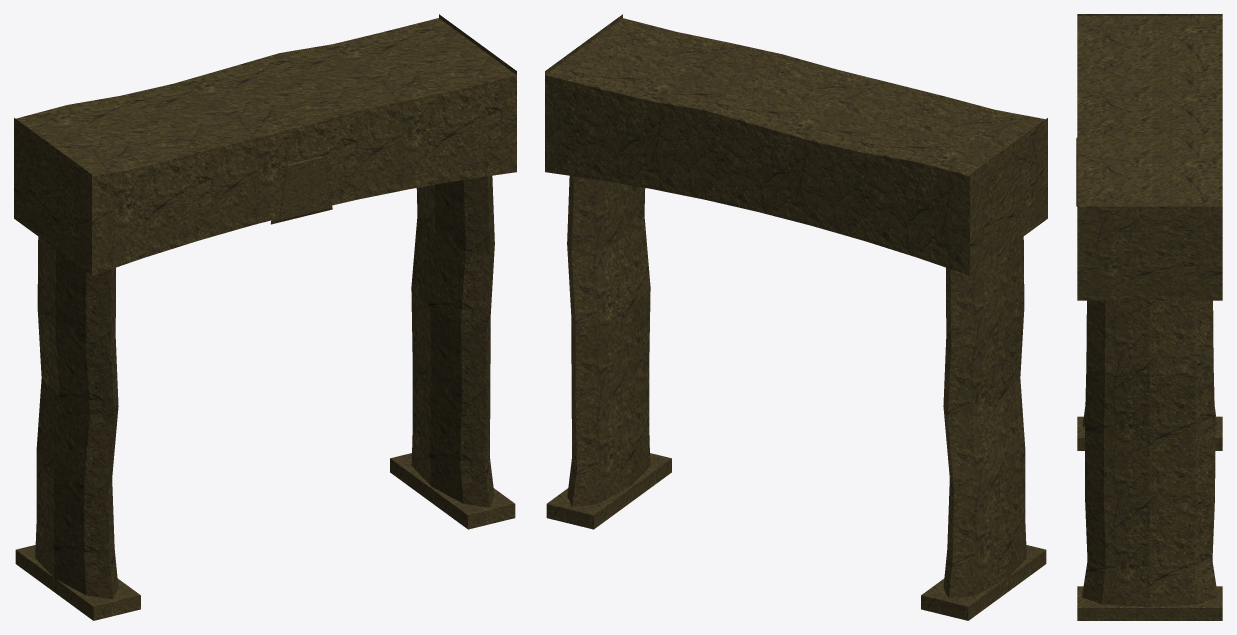
Rendered from dungeon_gate_44_limestone.glb.
The picture shows the model from 3 angles, left to right: view 1: azimuth 30°, elevation 25°; view 2: azimuth 150°, elevation 25°; view 3: azimuth 270°, elevation 25°; orthographic projection. The views are drawn at different scales.
Parts seen in each view (by area): view 1: dungeon_gate_44_limestone; view 2: dungeon_gate_44_limestone; view 3: dungeon_gate_44_limestone.
Part boxes in pixels (box(x1,y1,x2,y2)): dungeon_gate_44_limestone: box(14, 14, 516, 620); dungeon_gate_44_limestone: box(545, 14, 1047, 620); dungeon_gate_44_limestone: box(1076, 14, 1222, 620).
Size of the model in its own units: 4.4 by 4.42 by 1.41.
1 material, 1 textured.
